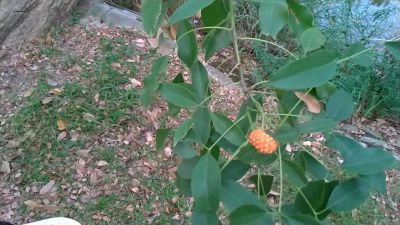eggs: (246, 125, 282, 160)
